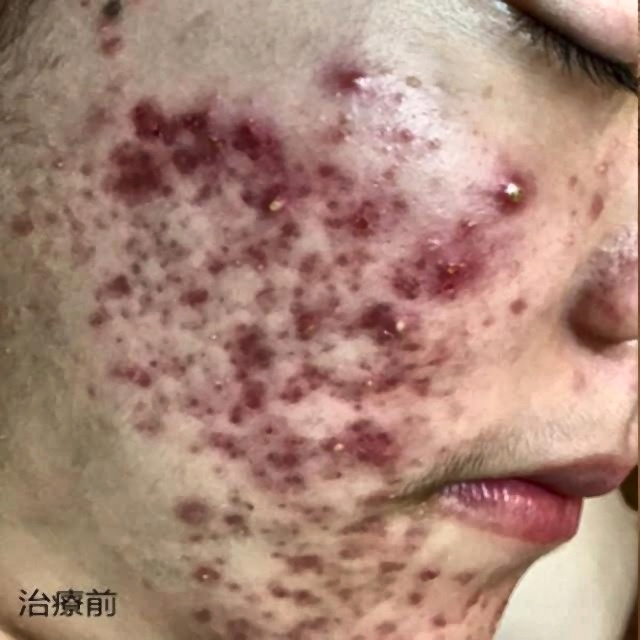nodule: (94, 171, 158, 222), (307, 154, 365, 201), (326, 512, 394, 552), (350, 205, 404, 255), (81, 269, 136, 317), (126, 386, 174, 439), (314, 422, 368, 465), (214, 313, 268, 356), (302, 345, 343, 398), (484, 175, 540, 213), (91, 138, 152, 172), (162, 144, 213, 184), (86, 19, 132, 63), (264, 576, 314, 616), (428, 241, 468, 289), (129, 99, 175, 140), (371, 304, 418, 342), (448, 214, 493, 252), (253, 182, 295, 222), (318, 109, 358, 150), (208, 160, 246, 203), (129, 344, 161, 395), (237, 111, 274, 155), (288, 308, 327, 348), (308, 194, 346, 235), (404, 567, 440, 610), (204, 420, 242, 460), (384, 368, 420, 409), (385, 263, 428, 297), (387, 72, 427, 108), (372, 431, 409, 469), (227, 342, 266, 378), (278, 429, 317, 465), (370, 158, 413, 190), (285, 244, 321, 282), (188, 105, 223, 144), (84, 100, 128, 131), (180, 278, 214, 318), (214, 387, 256, 419), (256, 471, 305, 498), (384, 118, 420, 154), (352, 484, 401, 509), (362, 554, 396, 590), (352, 377, 398, 403), (208, 504, 246, 535), (180, 241, 227, 266), (274, 546, 327, 568), (193, 82, 233, 111), (584, 185, 609, 229), (271, 365, 295, 408), (427, 341, 462, 370), (37, 147, 75, 173), (502, 291, 534, 320), (168, 492, 195, 526), (178, 387, 210, 415), (554, 223, 584, 251), (419, 128, 448, 156), (559, 167, 587, 192), (346, 62, 368, 93), (240, 247, 266, 273), (586, 155, 616, 177), (200, 552, 213, 592)
